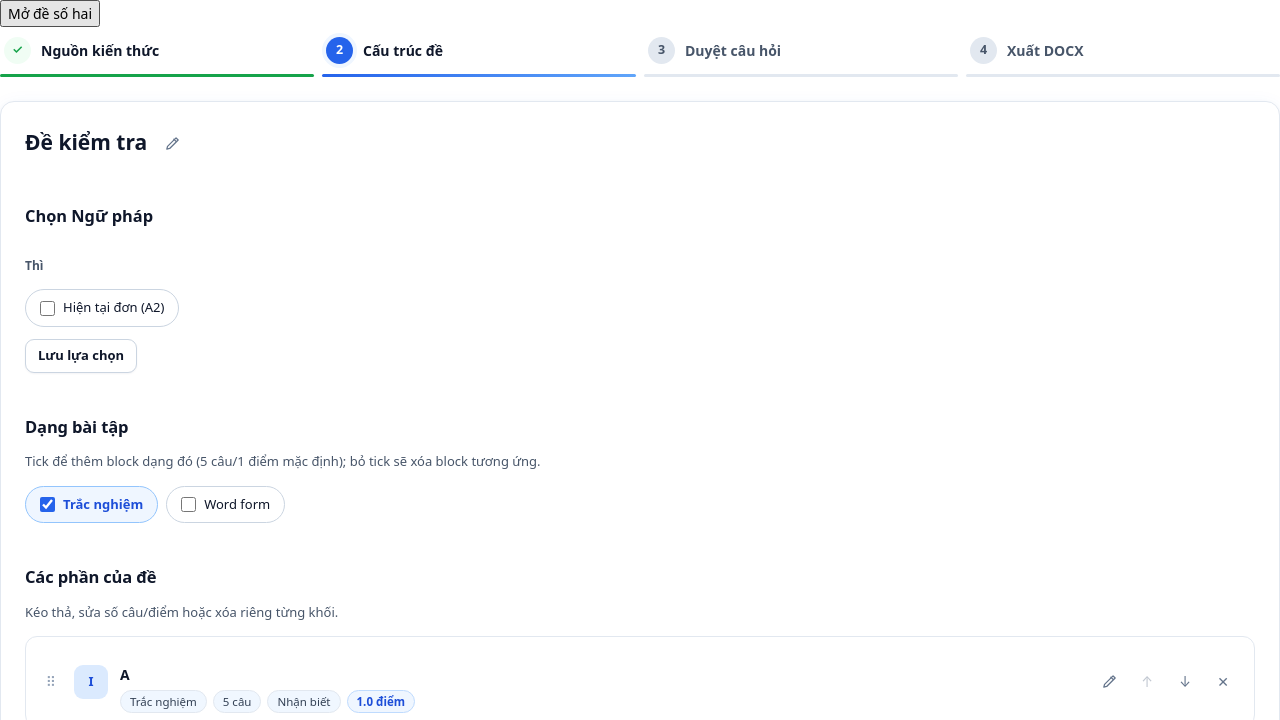
ExamBuilderPage › edits the exam title inline and refreshes the exam
This screenshot has width=1280, height=720.
Click the button named "Chỉnh sửa tiêu đề đề thi" at (172, 143), box x1=155 y1=126 x2=189 y2=160
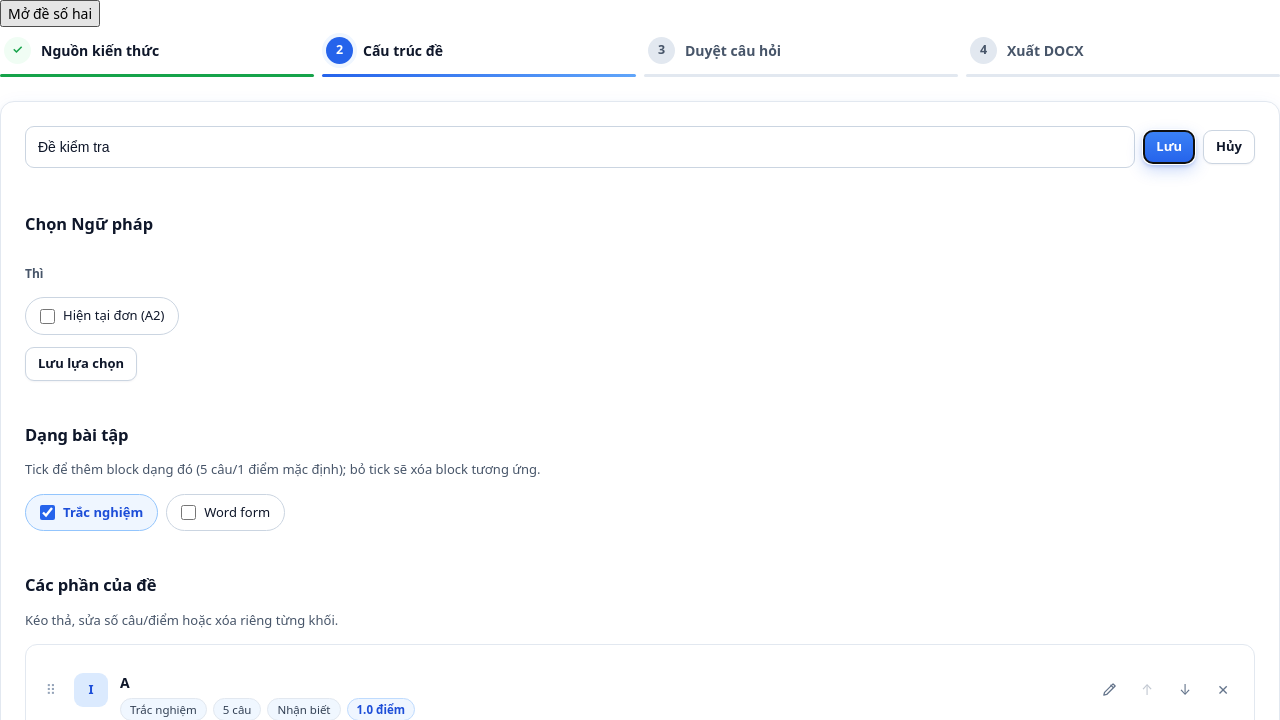
Replace the text in the field named "Tiêu đề đề thi" with "Đề kiểm tra (đã sửa)" at (580, 147), box x1=25 y1=126 x2=1135 y2=168
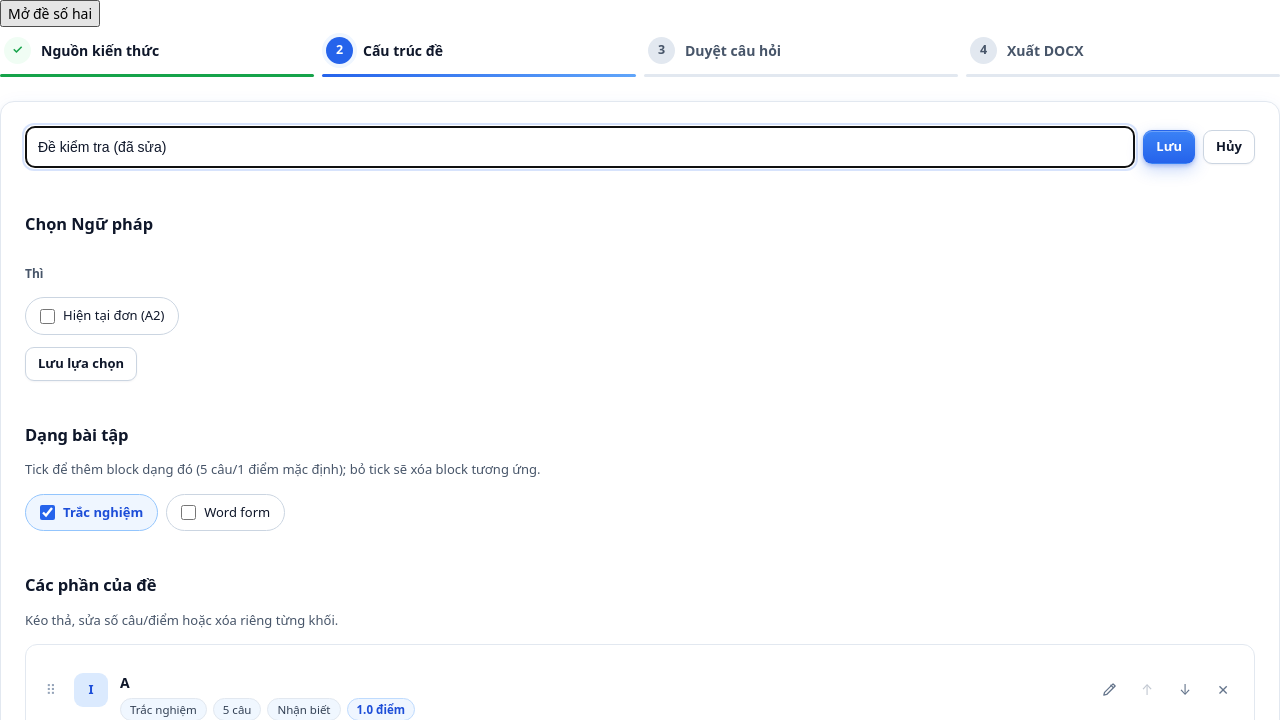
Click the button "Lưu" at (1169, 147), box x1=1143 y1=130 x2=1195 y2=164
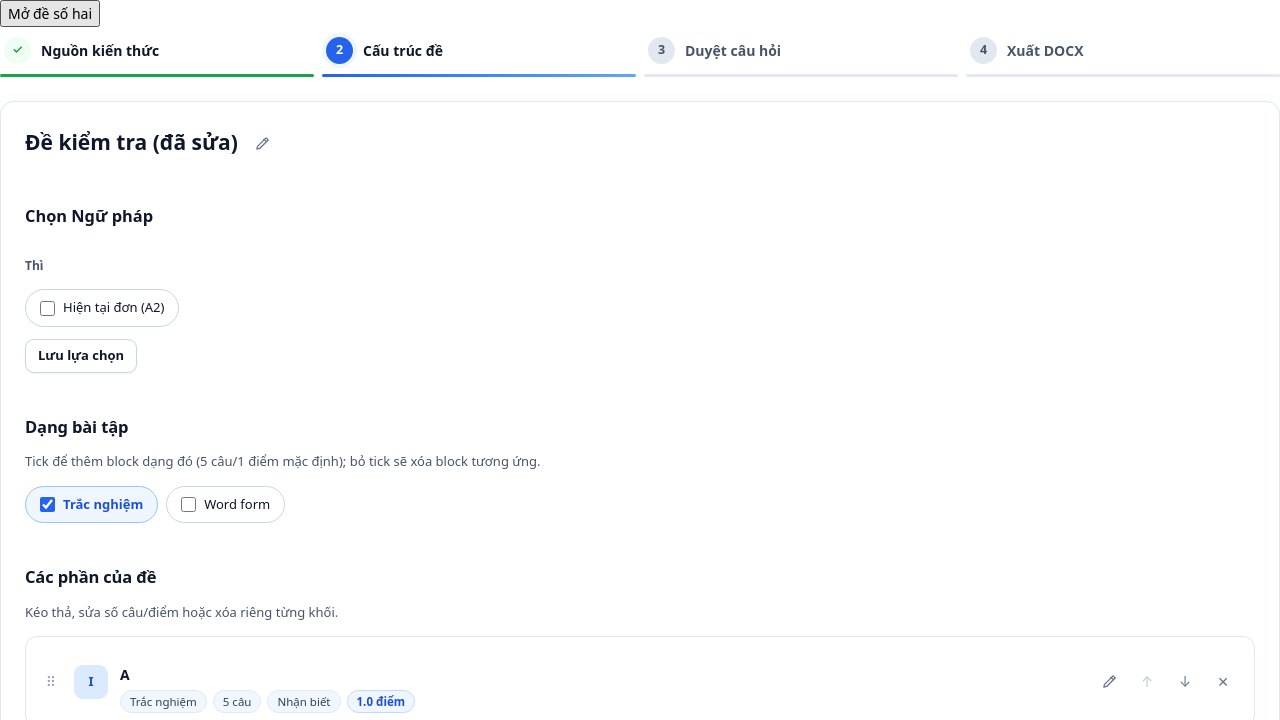
Check: the heading "Đề kiểm tra (đã sửa)" is shown, box x1=25 y1=127 x2=238 y2=159
